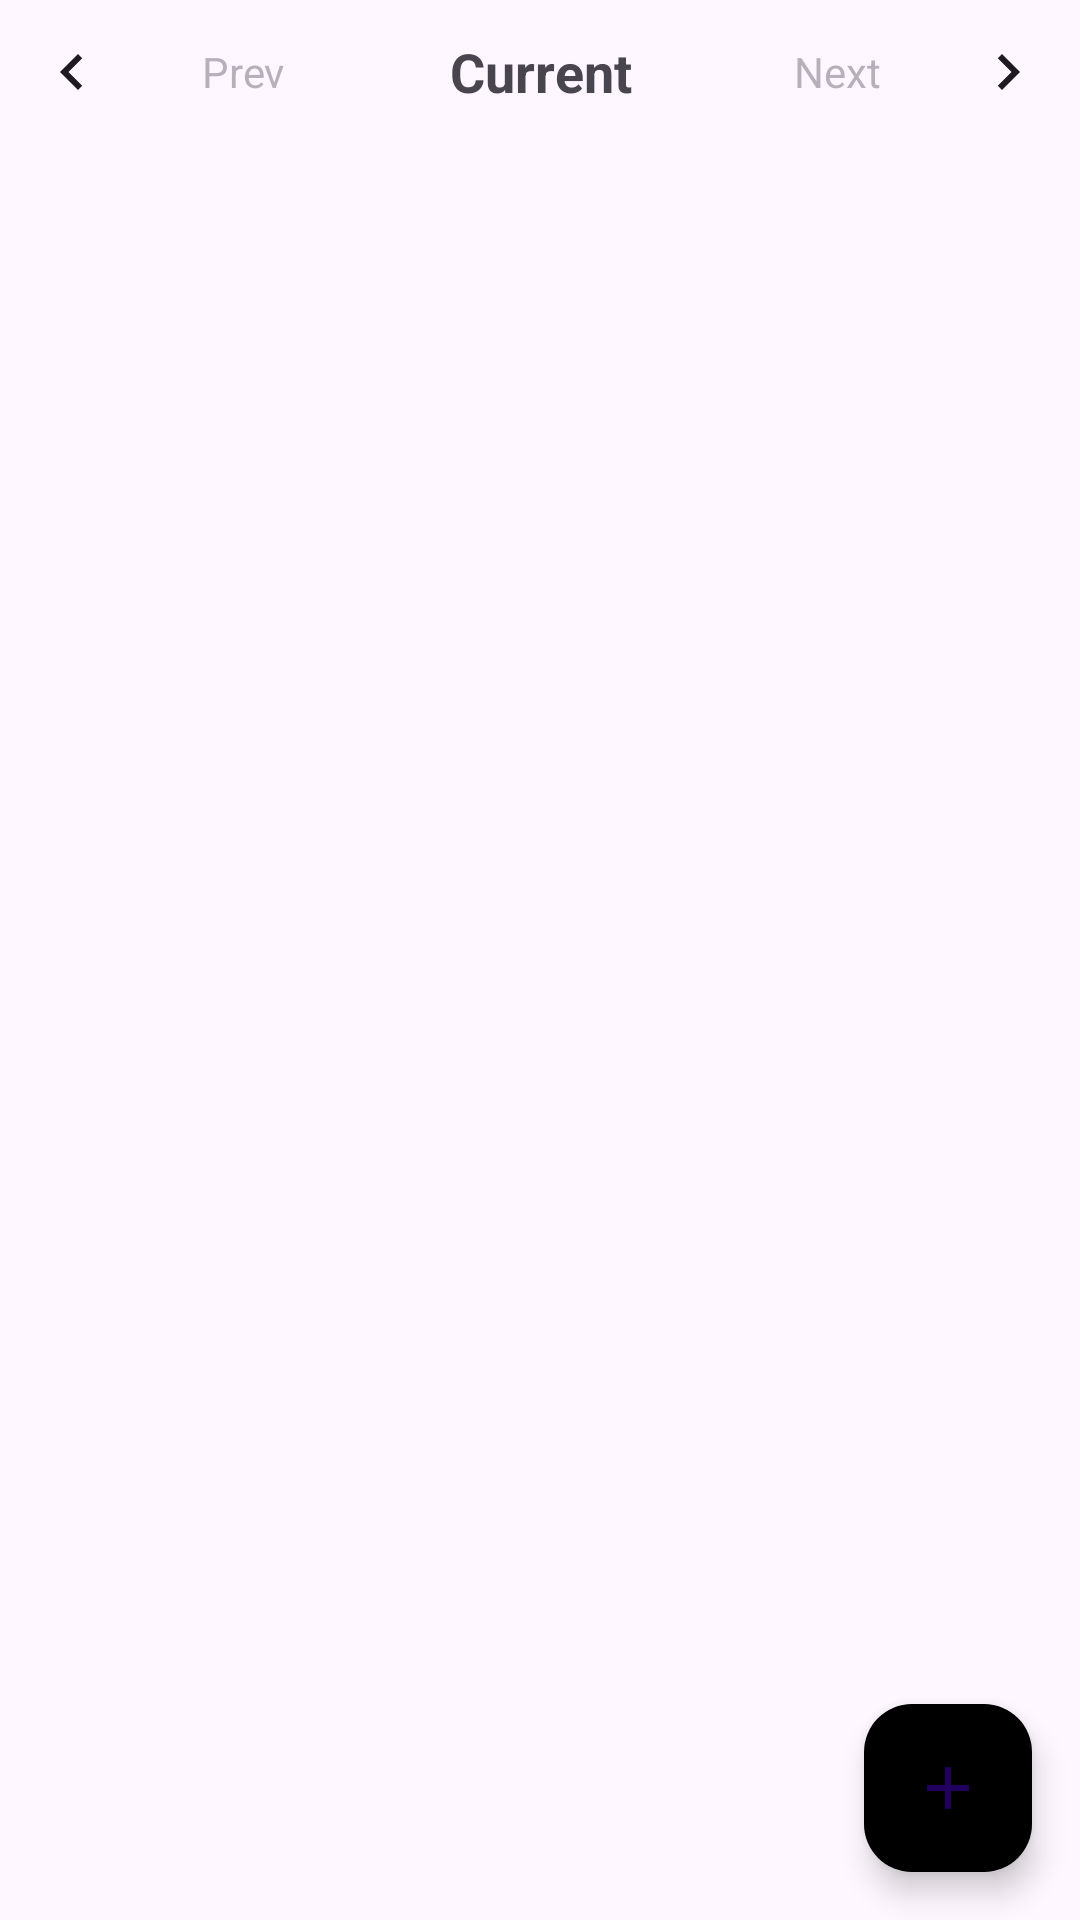

Point at icon controls on the screen. Image size 1080px x 1920px, points as point (x, y).
add: point (948, 1788)
Вперёд: point (1009, 72)
Назад: point (71, 72)
